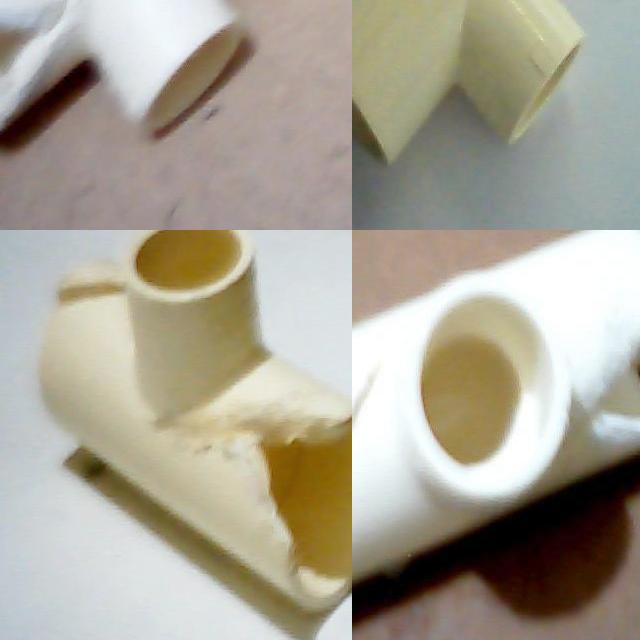Defective: (179, 400, 335, 566), (47, 271, 145, 348), (0, 0, 47, 123)
T Joint: (38, 230, 352, 612), (352, 0, 586, 168)
